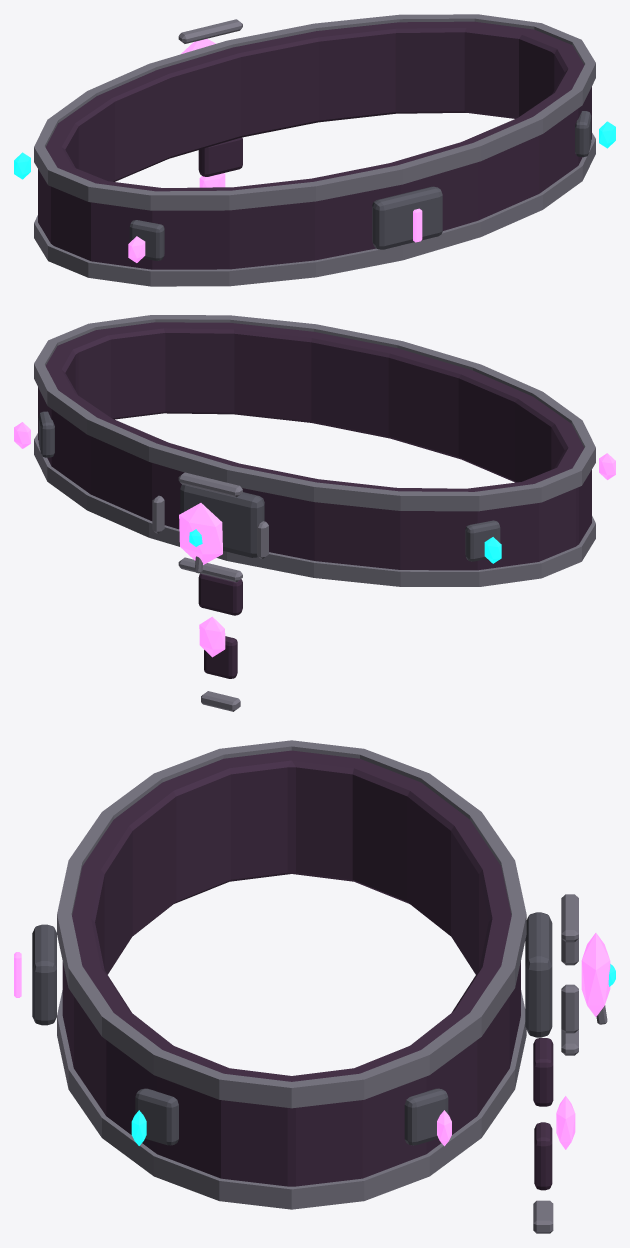
Rendered from Girdle_Shrouded_Threshold.fbx.
The picture shows the model from 3 angles, top to bottom: view 1: azimuth 30°, elevation 25°; view 2: azimuth 150°, elevation 25°; view 3: azimuth 270°, elevation 25°; orthographic projection. The views are drawn at different scales.
Visible parts, largest first — view 1: Girdle_Band, Upper_Edge_Trim, Lower_Edge_Trim, Rear_CounterPlate, Front_Drop_Upper, SideMount_2, Buckle_Top, SideMount_3; view 2: Girdle_Band, Upper_Edge_Trim, Lower_Edge_Trim, Buckle_Backplate, Buckle_VoidCore, Front_Drop_Upper, SideMount_1, Front_Drop_Lower, Front_Drop_Gem, Buckle_Top, Buckle_Bottom, SideMount_0 (+1 smaller); view 3: Girdle_Band, Upper_Edge_Trim, Lower_Edge_Trim, Buckle_Backplate, Rear_CounterPlate, SideMount_0, SideMount_3, Buckle_VoidCore, Front_Drop_Upper, Front_Drop_Lower, Buckle_Right, Buckle_Top (+2 smaller).
Boxes of the visible parts, x1,y1,x2,y2 form: Girdle_Band: (38, 21, 591, 269); Upper_Edge_Trim: (34, 14, 595, 210); Lower_Edge_Trim: (34, 133, 595, 286); Rear_CounterPlate: (372, 186, 442, 249); Front_Drop_Upper: (198, 137, 242, 176); SideMount_2: (129, 220, 164, 260); Buckle_Top: (178, 19, 242, 43); SideMount_3: (575, 111, 591, 157); Girdle_Band: (38, 322, 591, 570); Upper_Edge_Trim: (34, 315, 595, 511); Lower_Edge_Trim: (34, 433, 595, 586); Buckle_Backplate: (180, 484, 264, 557); Buckle_VoidCore: (179, 503, 222, 564); Front_Drop_Upper: (198, 573, 242, 615); SideMount_1: (465, 520, 500, 561); Front_Drop_Lower: (204, 636, 237, 678); Front_Drop_Gem: (199, 616, 225, 657); Buckle_Top: (178, 472, 242, 497); Buckle_Bottom: (178, 557, 242, 582); SideMount_0: (38, 411, 54, 457); Girdle_Band: (62, 750, 520, 1186); Upper_Edge_Trim: (57, 740, 526, 1108); Lower_Edge_Trim: (57, 990, 526, 1209); Buckle_Backplate: (525, 912, 552, 1037); Rear_CounterPlate: (32, 924, 56, 1025); SideMount_0: (404, 1088, 448, 1145); SideMount_3: (135, 1088, 178, 1145); Buckle_VoidCore: (581, 933, 610, 1016); Front_Drop_Upper: (533, 1038, 553, 1106); Front_Drop_Lower: (534, 1122, 552, 1190); Buckle_Right: (561, 984, 578, 1033); Buckle_Top: (561, 894, 578, 942).
Bounding box in the file's own units: 73.6 × 30.75 × 53.85.
